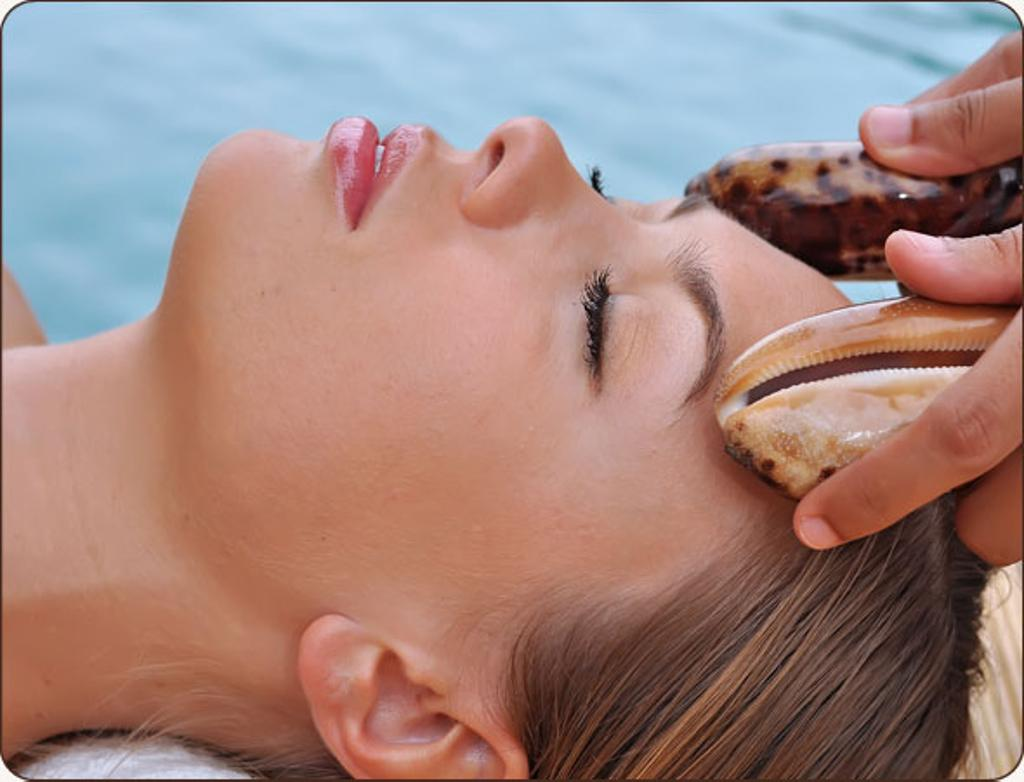face: (192, 122, 874, 568)
